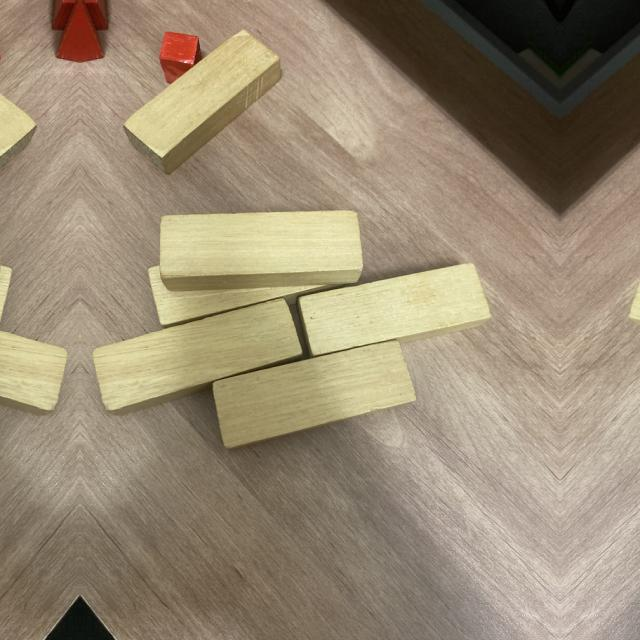jenga: (90, 297, 305, 418), (212, 338, 419, 455), (124, 30, 283, 174), (296, 262, 491, 358), (159, 210, 365, 292), (146, 263, 345, 329), (0, 330, 70, 418)
red block: (80, 0, 108, 63), (52, 0, 80, 63)
red cube: (158, 32, 202, 84)
